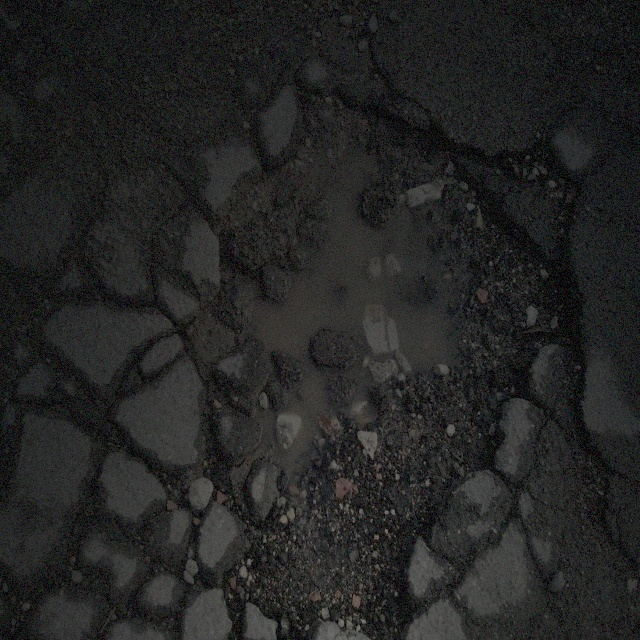pothole: (190, 75, 576, 590)
